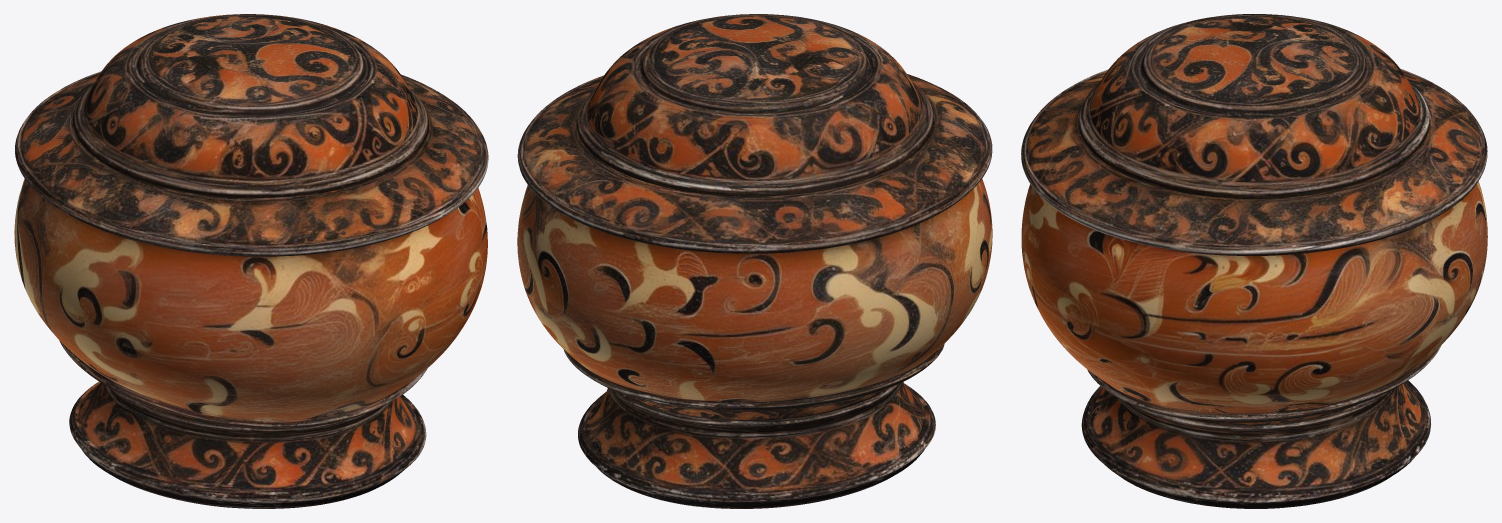
Rendered from cloud-bird-dou.glb.
The picture shows the model from 3 angles, left to right: view 1: azimuth 30°, elevation 25°; view 2: azimuth 150°, elevation 25°; view 3: azimuth 270°, elevation 25°; orthographic projection.
Visible parts, largest first — view 1: node_0; view 2: node_0; view 3: node_0.
Boxes of the visible parts, left/top/right/bottom form: node_0: left=14, top=14, right=488, bottom=508; node_0: left=517, top=14, right=992, bottom=508; node_0: left=1021, top=14, right=1487, bottom=508.
Bounding box in the file's own units: 1.03 × 0.9645 × 1.04.
Materials: 1 (1 with a texture image).
